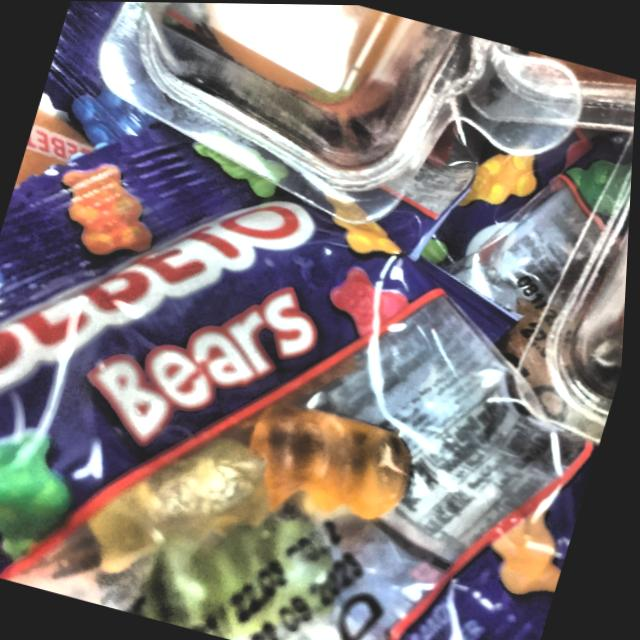Plastic: (0, 178, 605, 640)
